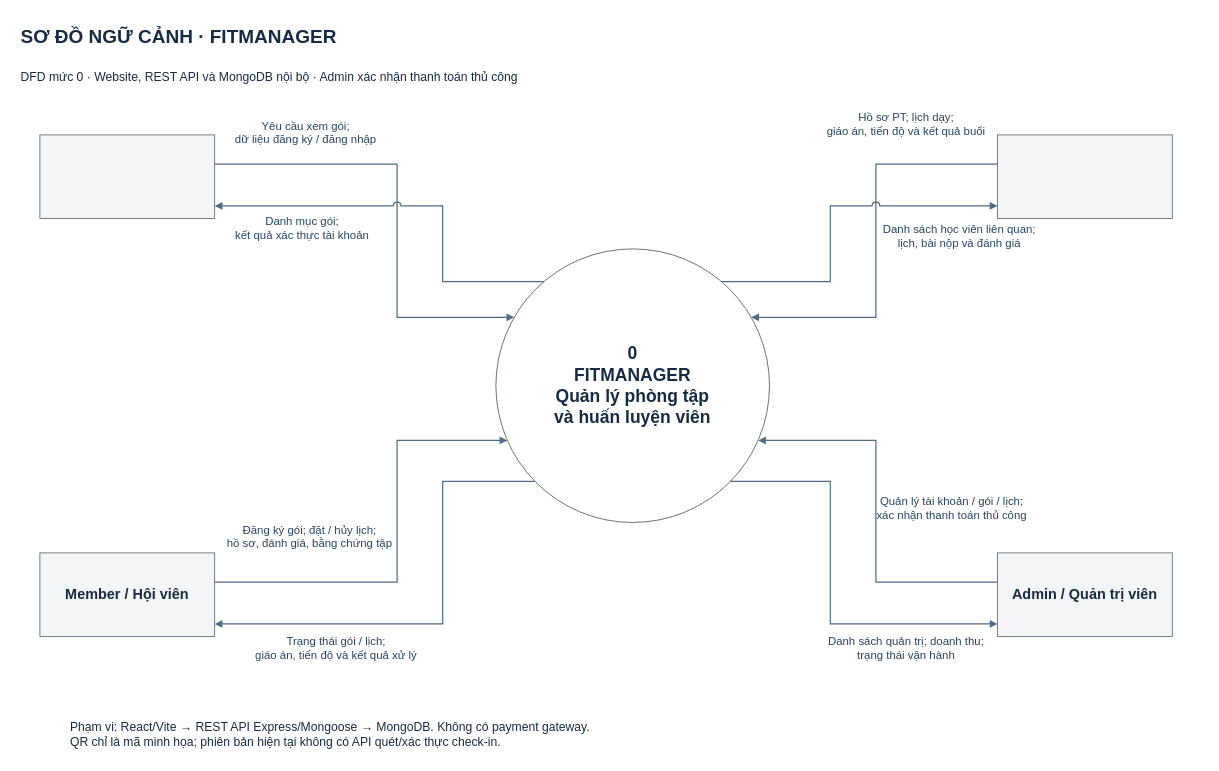
This 1219x771 diagram has some shape labels left out. Here are the shapes that lost their labels. From the top down, the centre of each, then its label:
the point at 127,176: Khách
the point at 1084,176: PT / Huấn luyện viên
